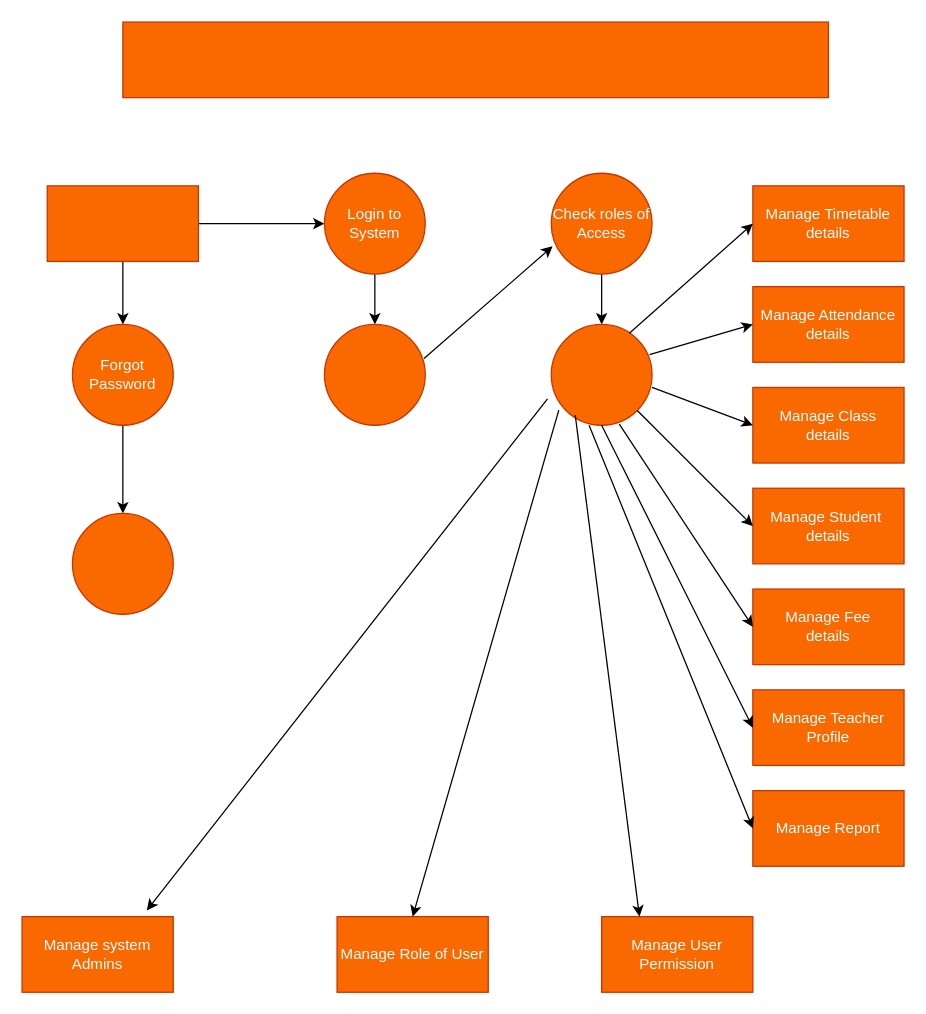
This 926x1014 diagram has some shape labels left out. The shapes that lost their labels are listed below. From the top down, each one's centre as x and y in pixels, then its label:
At point (475, 59): "Student Information System".
At point (122, 223): "Admin".
At point (374, 374): "Check Credentials".
At point (601, 374): "Manage Modules".
At point (122, 563): "Send Email to User".
